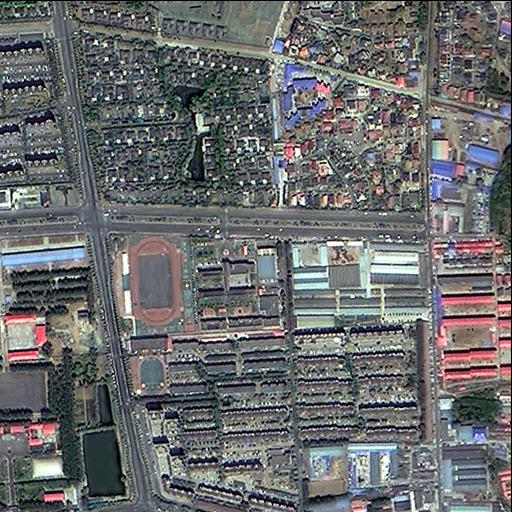school: (103, 234, 285, 331), (120, 334, 170, 401)
